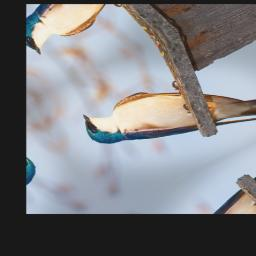Swallow: (75, 46, 256, 188)
